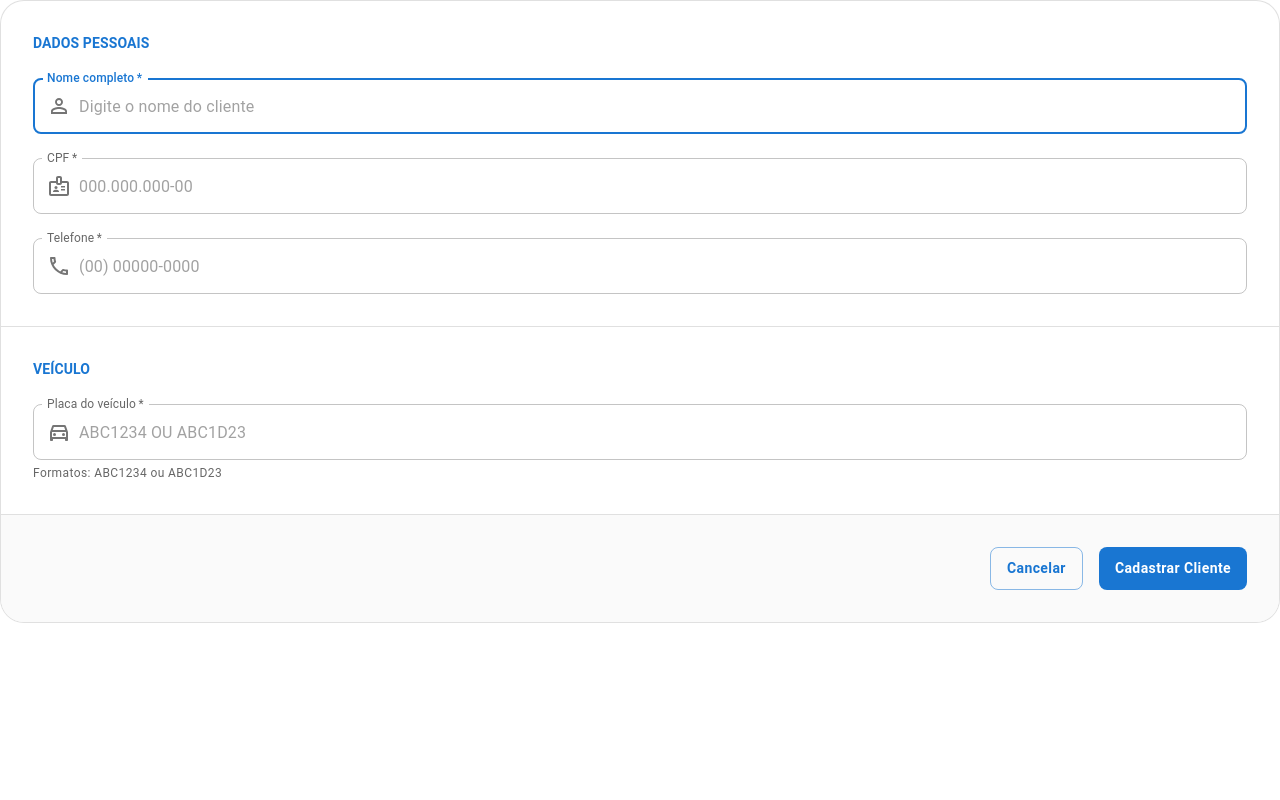
Test: ClientForm › validação › deve exibir erro quando telefone é inválido
The width and height of the screenshot is (1280, 800).
In the field with test id "client-name-input": (663, 106) [79, 78, 1247, 134], type "João Silva"
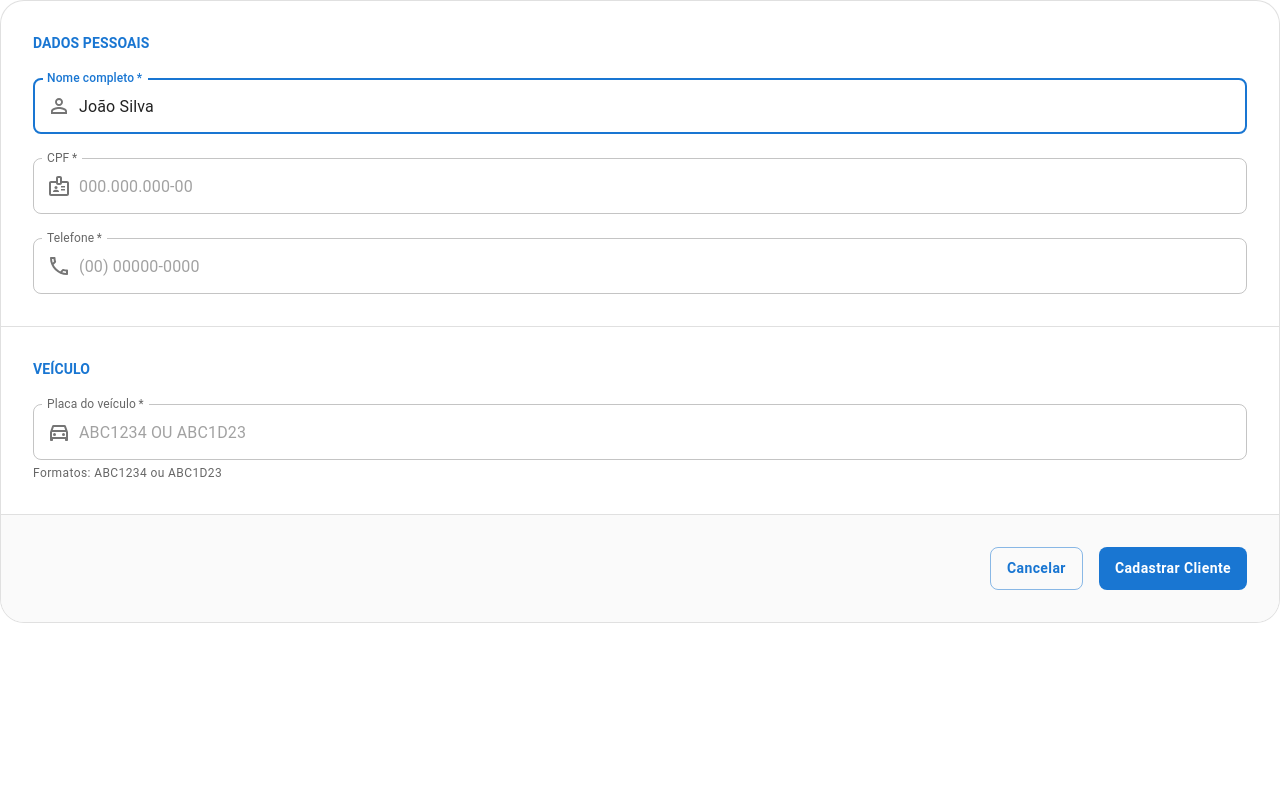
In the field with test id "client-cpf-input": (663, 186) [79, 158, 1247, 214], type "529.982.247-25"
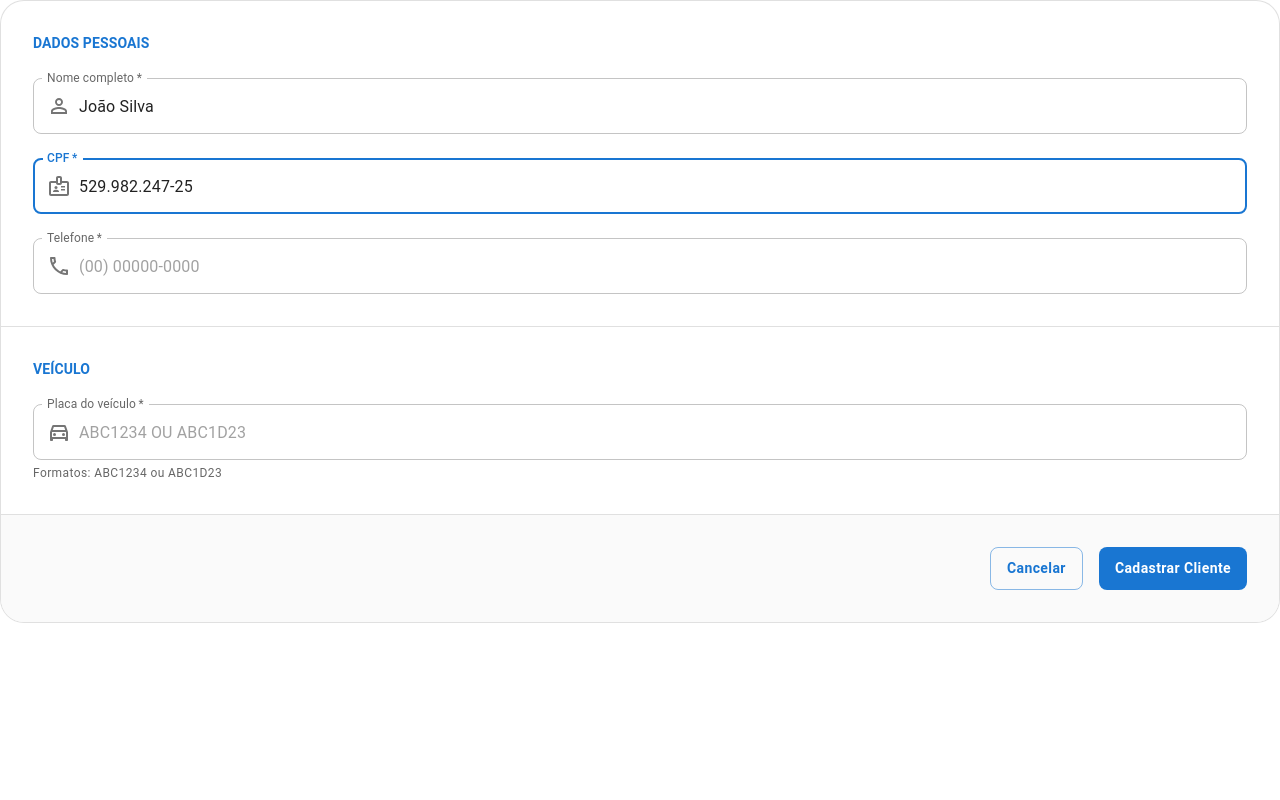
In the field with test id "client-phone-input": (663, 266) [79, 238, 1247, 294], type "1199999"
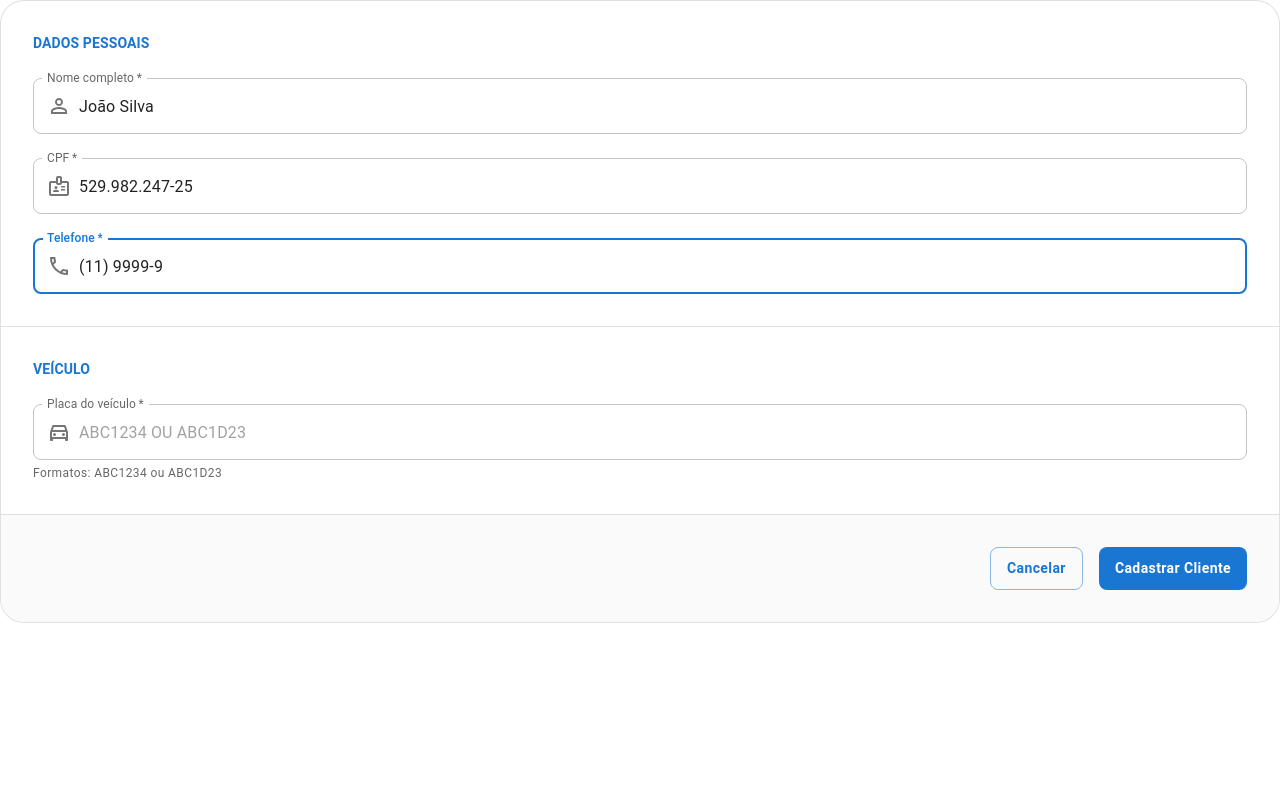
Click the button with test id "client-form-submit-button": (1173, 568) [1099, 547, 1247, 590]
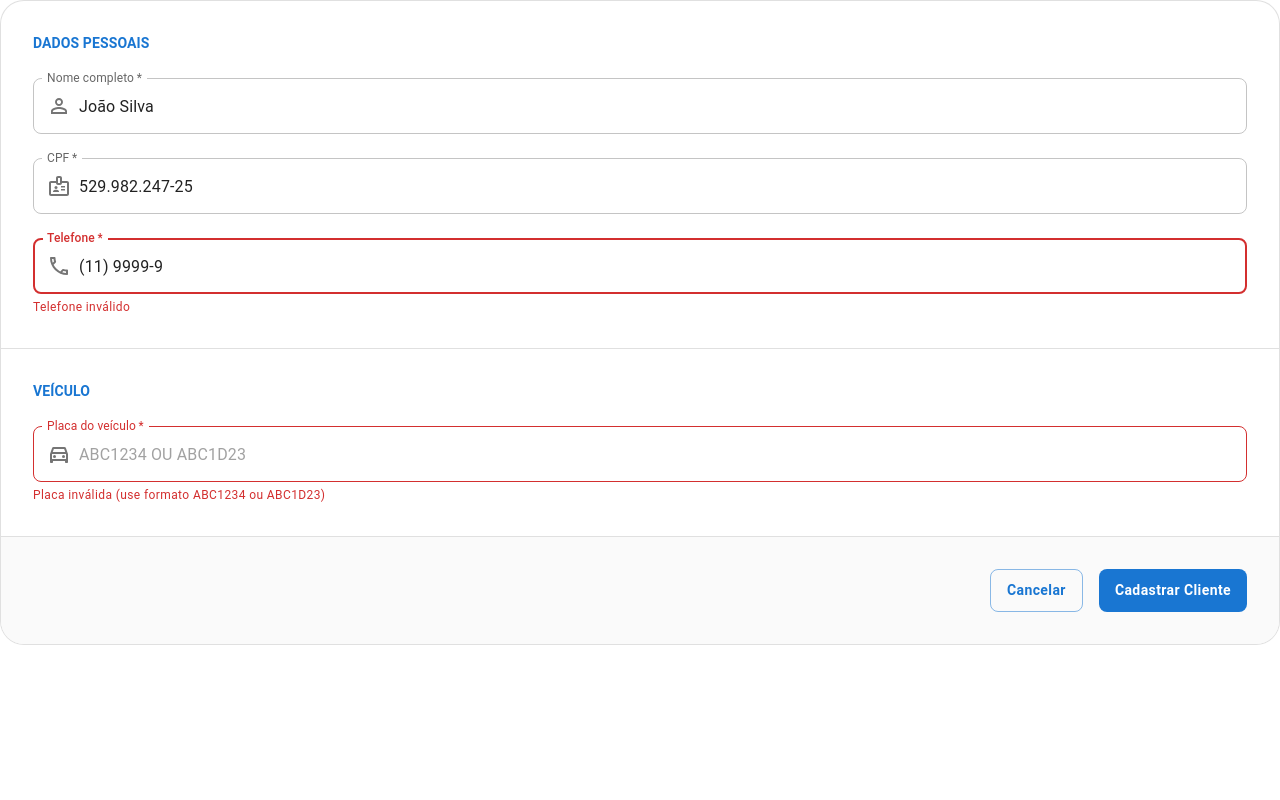
Check: the text "Telefone inválido" is shown, box [33, 300, 130, 314]
